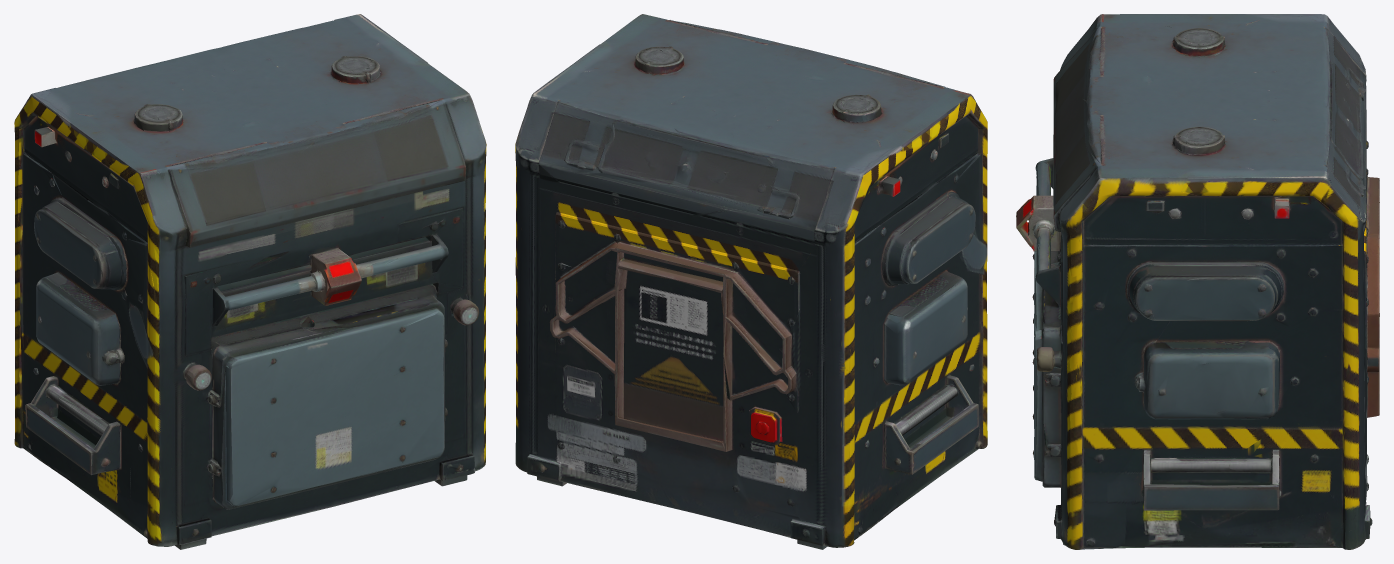
The model's file is Meshy_AI_Facility_Waste_Compactor_source.glb.
3 views of the same model, side by side, from view 1: azimuth 30°, elevation 25°; view 2: azimuth 150°, elevation 25°; view 3: azimuth 270°, elevation 25° (orthographic). The views are drawn at different scales.
Size of the model in its own units: 1.9 by 1.78 by 1.51.
1 material, 1 textured.
